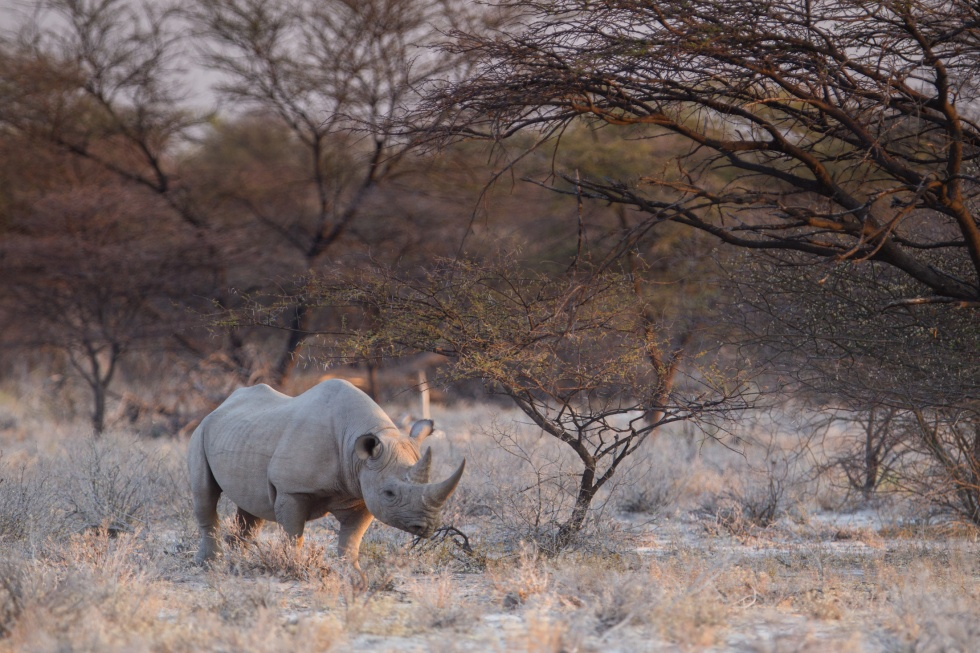rhino: (327, 473, 615, 653)
